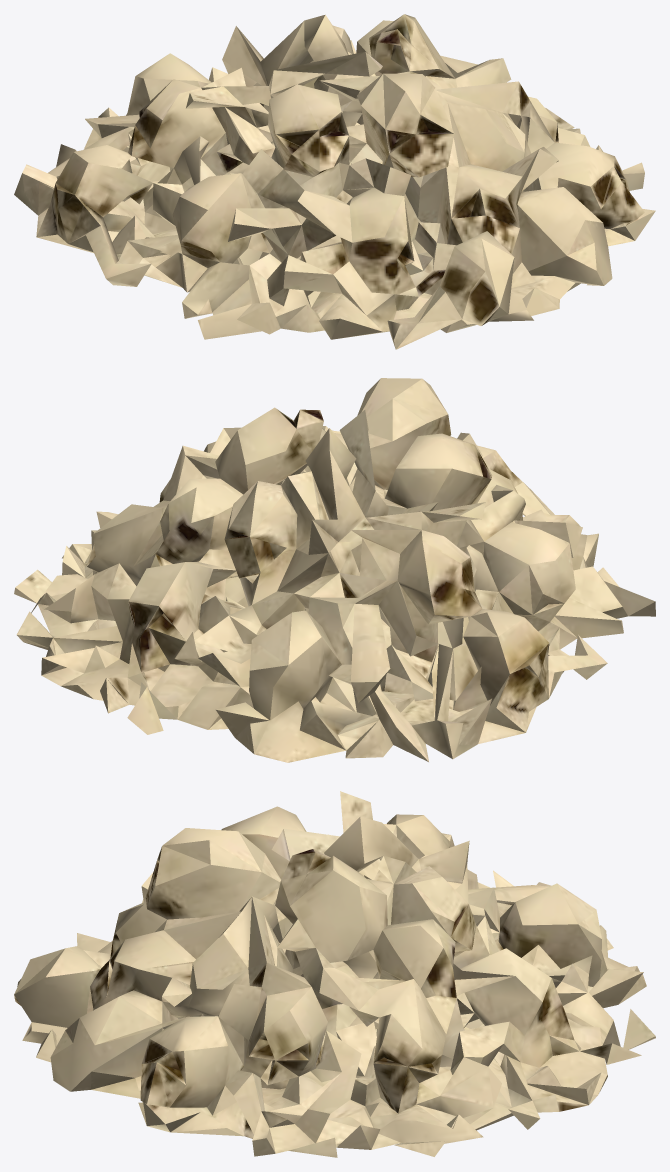
File: prop_bones.glb
3 views of the same model, one above another, from view 1: azimuth 30°, elevation 25°; view 2: azimuth 150°, elevation 25°; view 3: azimuth 270°, elevation 25° (orthographic). The views are drawn at different scales.
Size of the model in its own units: 1.8 by 0.6714 by 1.89.
Materials: 1 (1 with a texture image).
